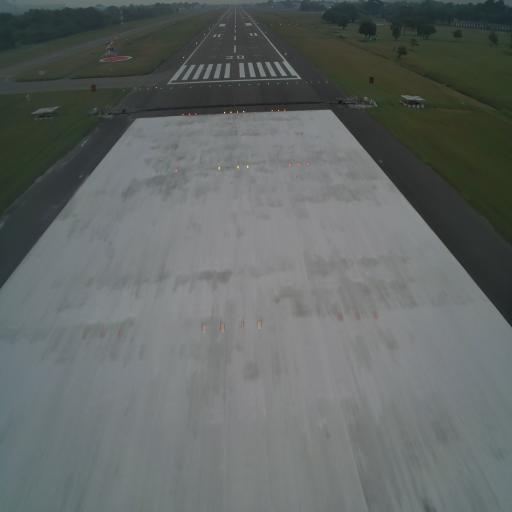off: (378, 155, 384, 166), (78, 172, 84, 180), (226, 164, 231, 173), (154, 167, 160, 174), (165, 166, 168, 175)
on: (80, 329, 91, 343), (335, 310, 345, 325), (256, 316, 264, 334), (354, 306, 362, 324), (371, 305, 379, 323), (98, 328, 108, 342), (202, 322, 210, 338), (117, 325, 124, 341), (238, 316, 244, 334), (219, 319, 225, 336), (173, 165, 179, 173), (297, 159, 302, 168), (217, 164, 222, 172), (246, 163, 250, 172), (288, 161, 292, 169), (236, 164, 240, 172), (306, 161, 310, 168)
